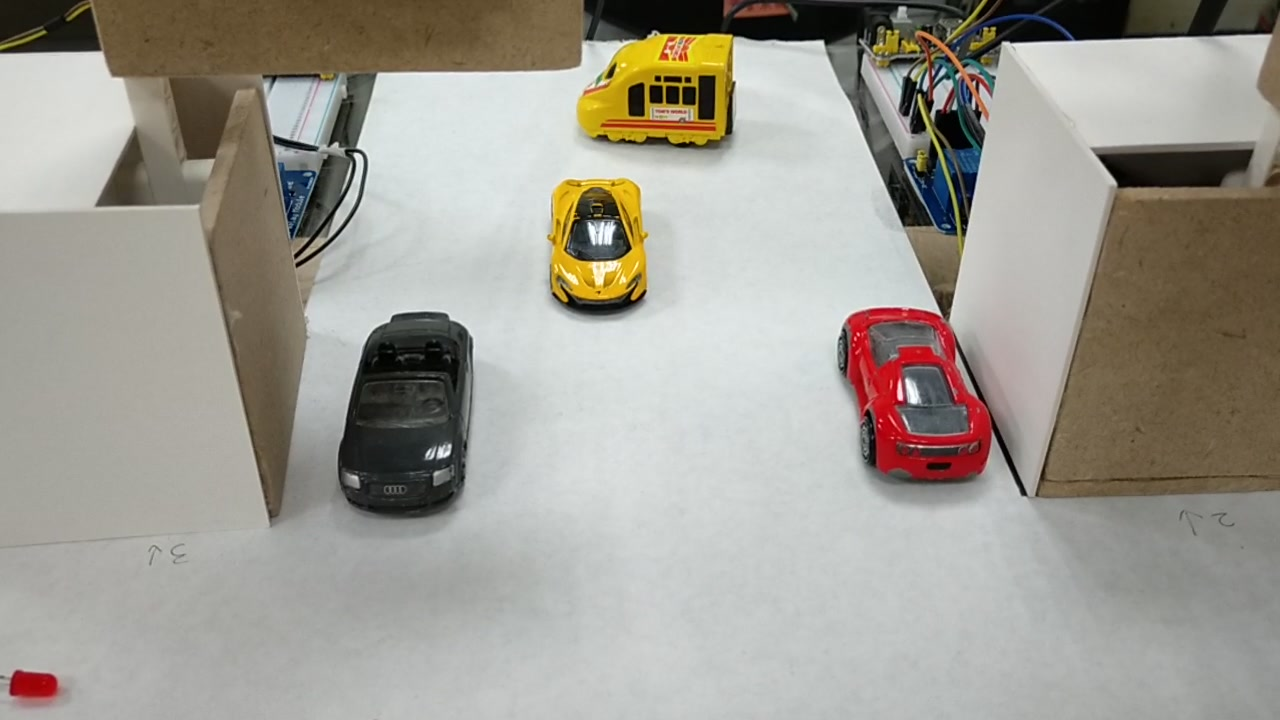car: (340, 311, 474, 503), (850, 309, 994, 485), (553, 170, 643, 310)
